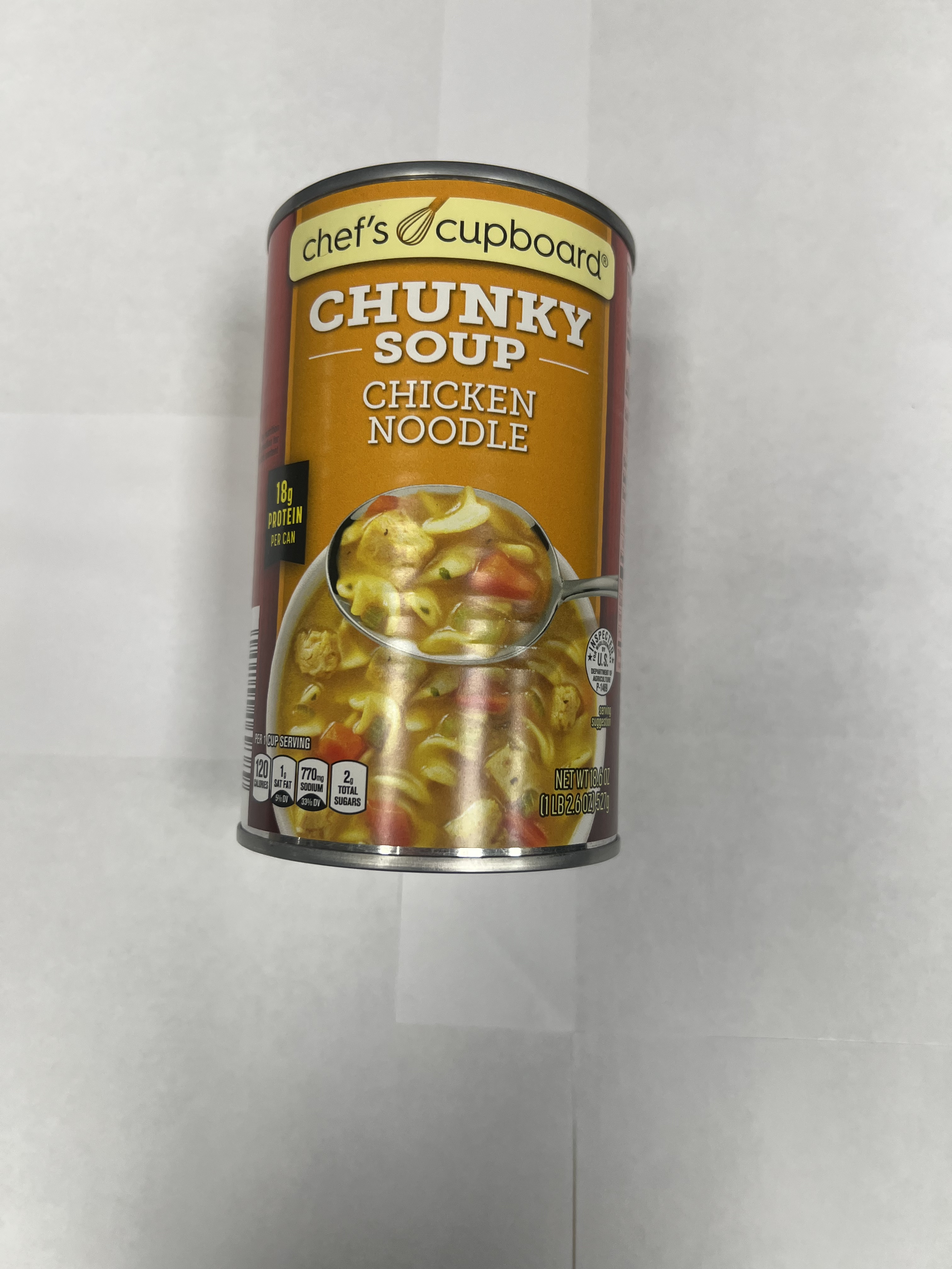packaged: (234, 154, 638, 883)
